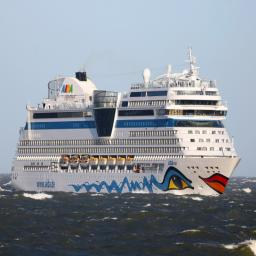cruises: (11, 44, 245, 201)
